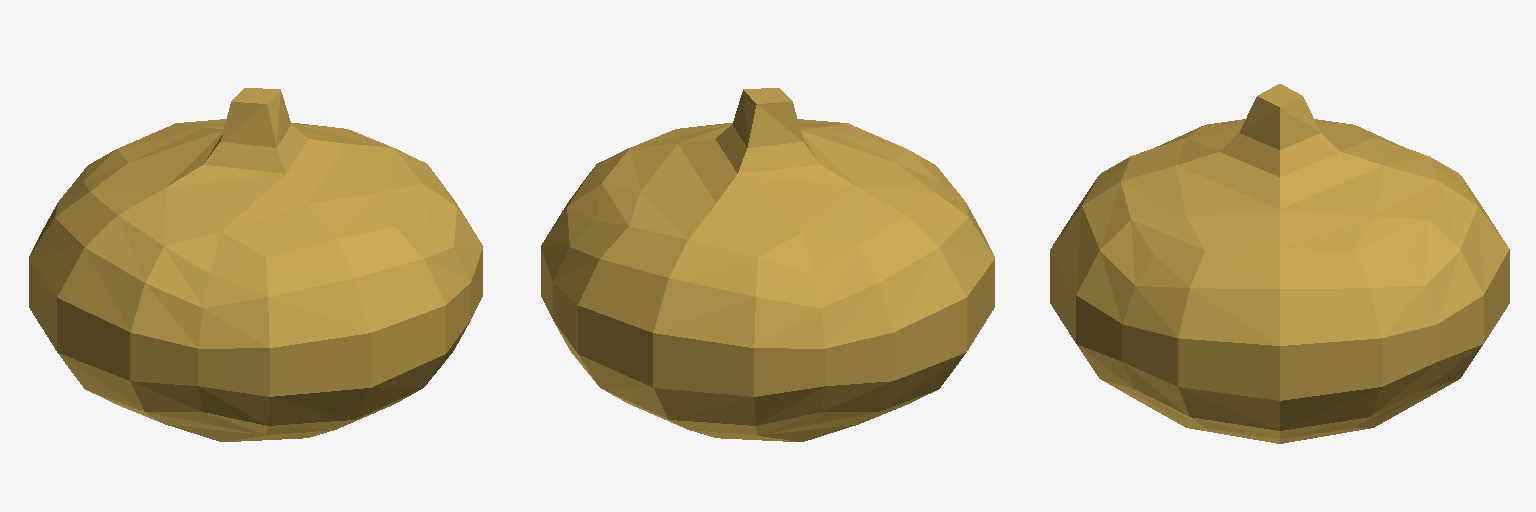
The model's file is onion.obj.
3 renders of one model, left to right at view 1: azimuth 30°, elevation 25°; view 2: azimuth 150°, elevation 25°; view 3: azimuth 270°, elevation 25°, orthographic.
Parts seen in each view (by area): view 1: Cube; view 2: Cube; view 3: Cube.
Boxes of the visible parts, <box> form: Cube: <box>29,88,482,441</box>; Cube: <box>541,88,994,441</box>; Cube: <box>1050,84,1509,443</box>.
Bounding box in the file's own units: 2.6 × 2.01 × 2.6.